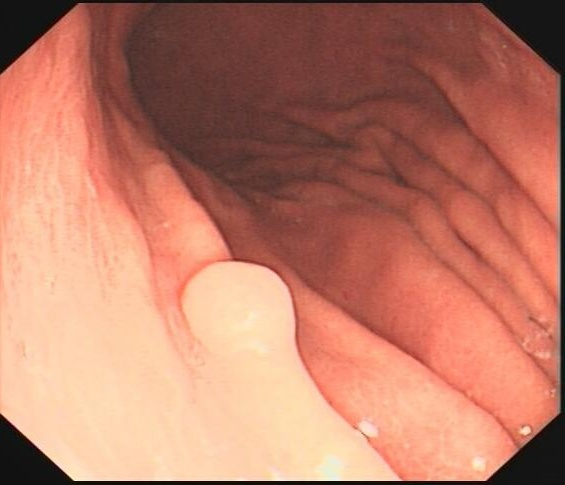Polyp: (169, 256, 298, 355)
